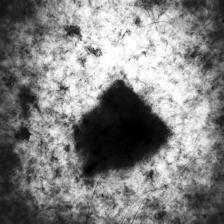Benign Marking or Mole: (68, 75, 170, 177)
